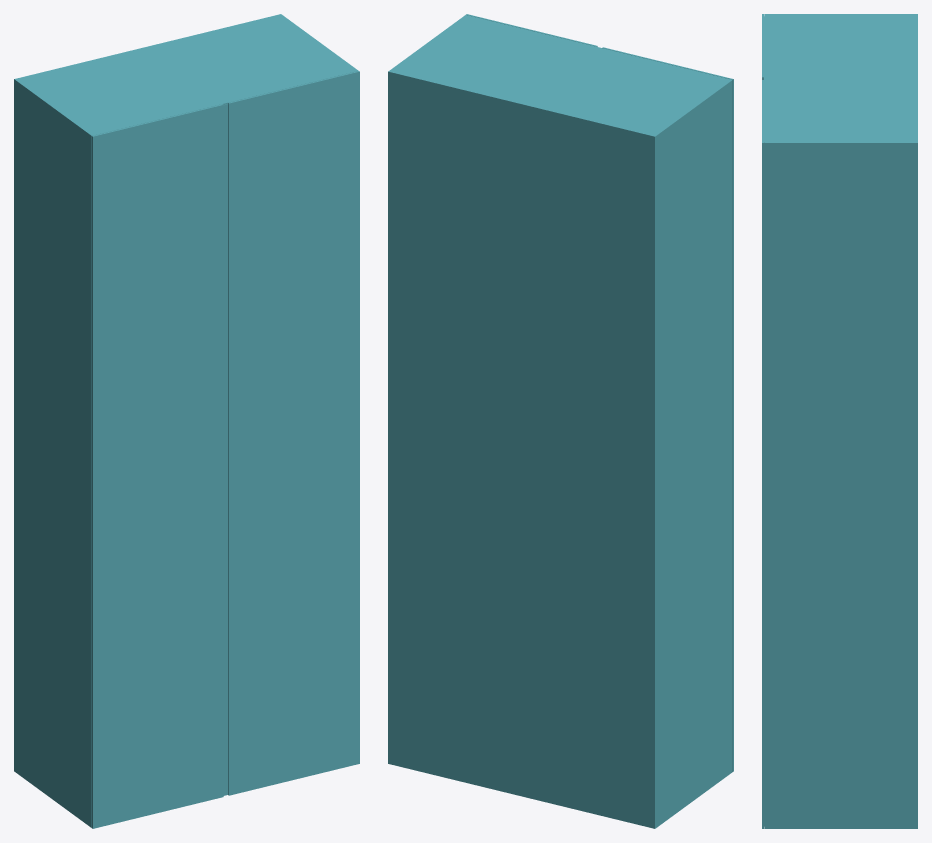
The model's file is Cupboard_small_996_509_2469.fbx.
3 views of the same model, side by side, from view 1: azimuth 30°, elevation 25°; view 2: azimuth 150°, elevation 25°; view 3: azimuth 270°, elevation 25° (orthographic).
Visible parts, largest first — view 1: Cupboard_small_996_509_2469; view 2: Cupboard_small_996_509_2469; view 3: Cupboard_small_996_509_2469.
Boxes of the visible parts, x1,y1,x2,y2 form: Cupboard_small_996_509_2469: (14, 14, 359, 828); Cupboard_small_996_509_2469: (388, 14, 733, 828); Cupboard_small_996_509_2469: (762, 14, 917, 828).
Bounding box in the file's own units: 99.65 × 247 × 50.89.
